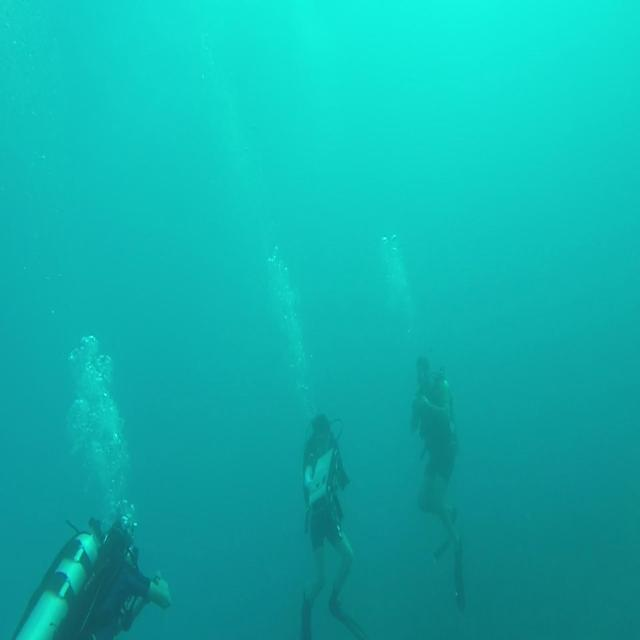human: (12, 511, 171, 638), (299, 412, 364, 638), (410, 353, 466, 612)
